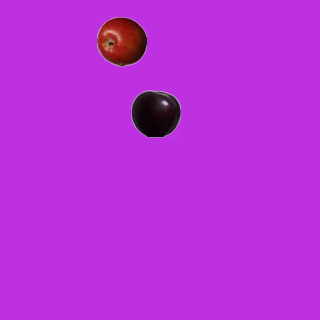Apple Braeburn: (96, 16, 146, 66)
Cherry Wax Black: (130, 88, 180, 138)
